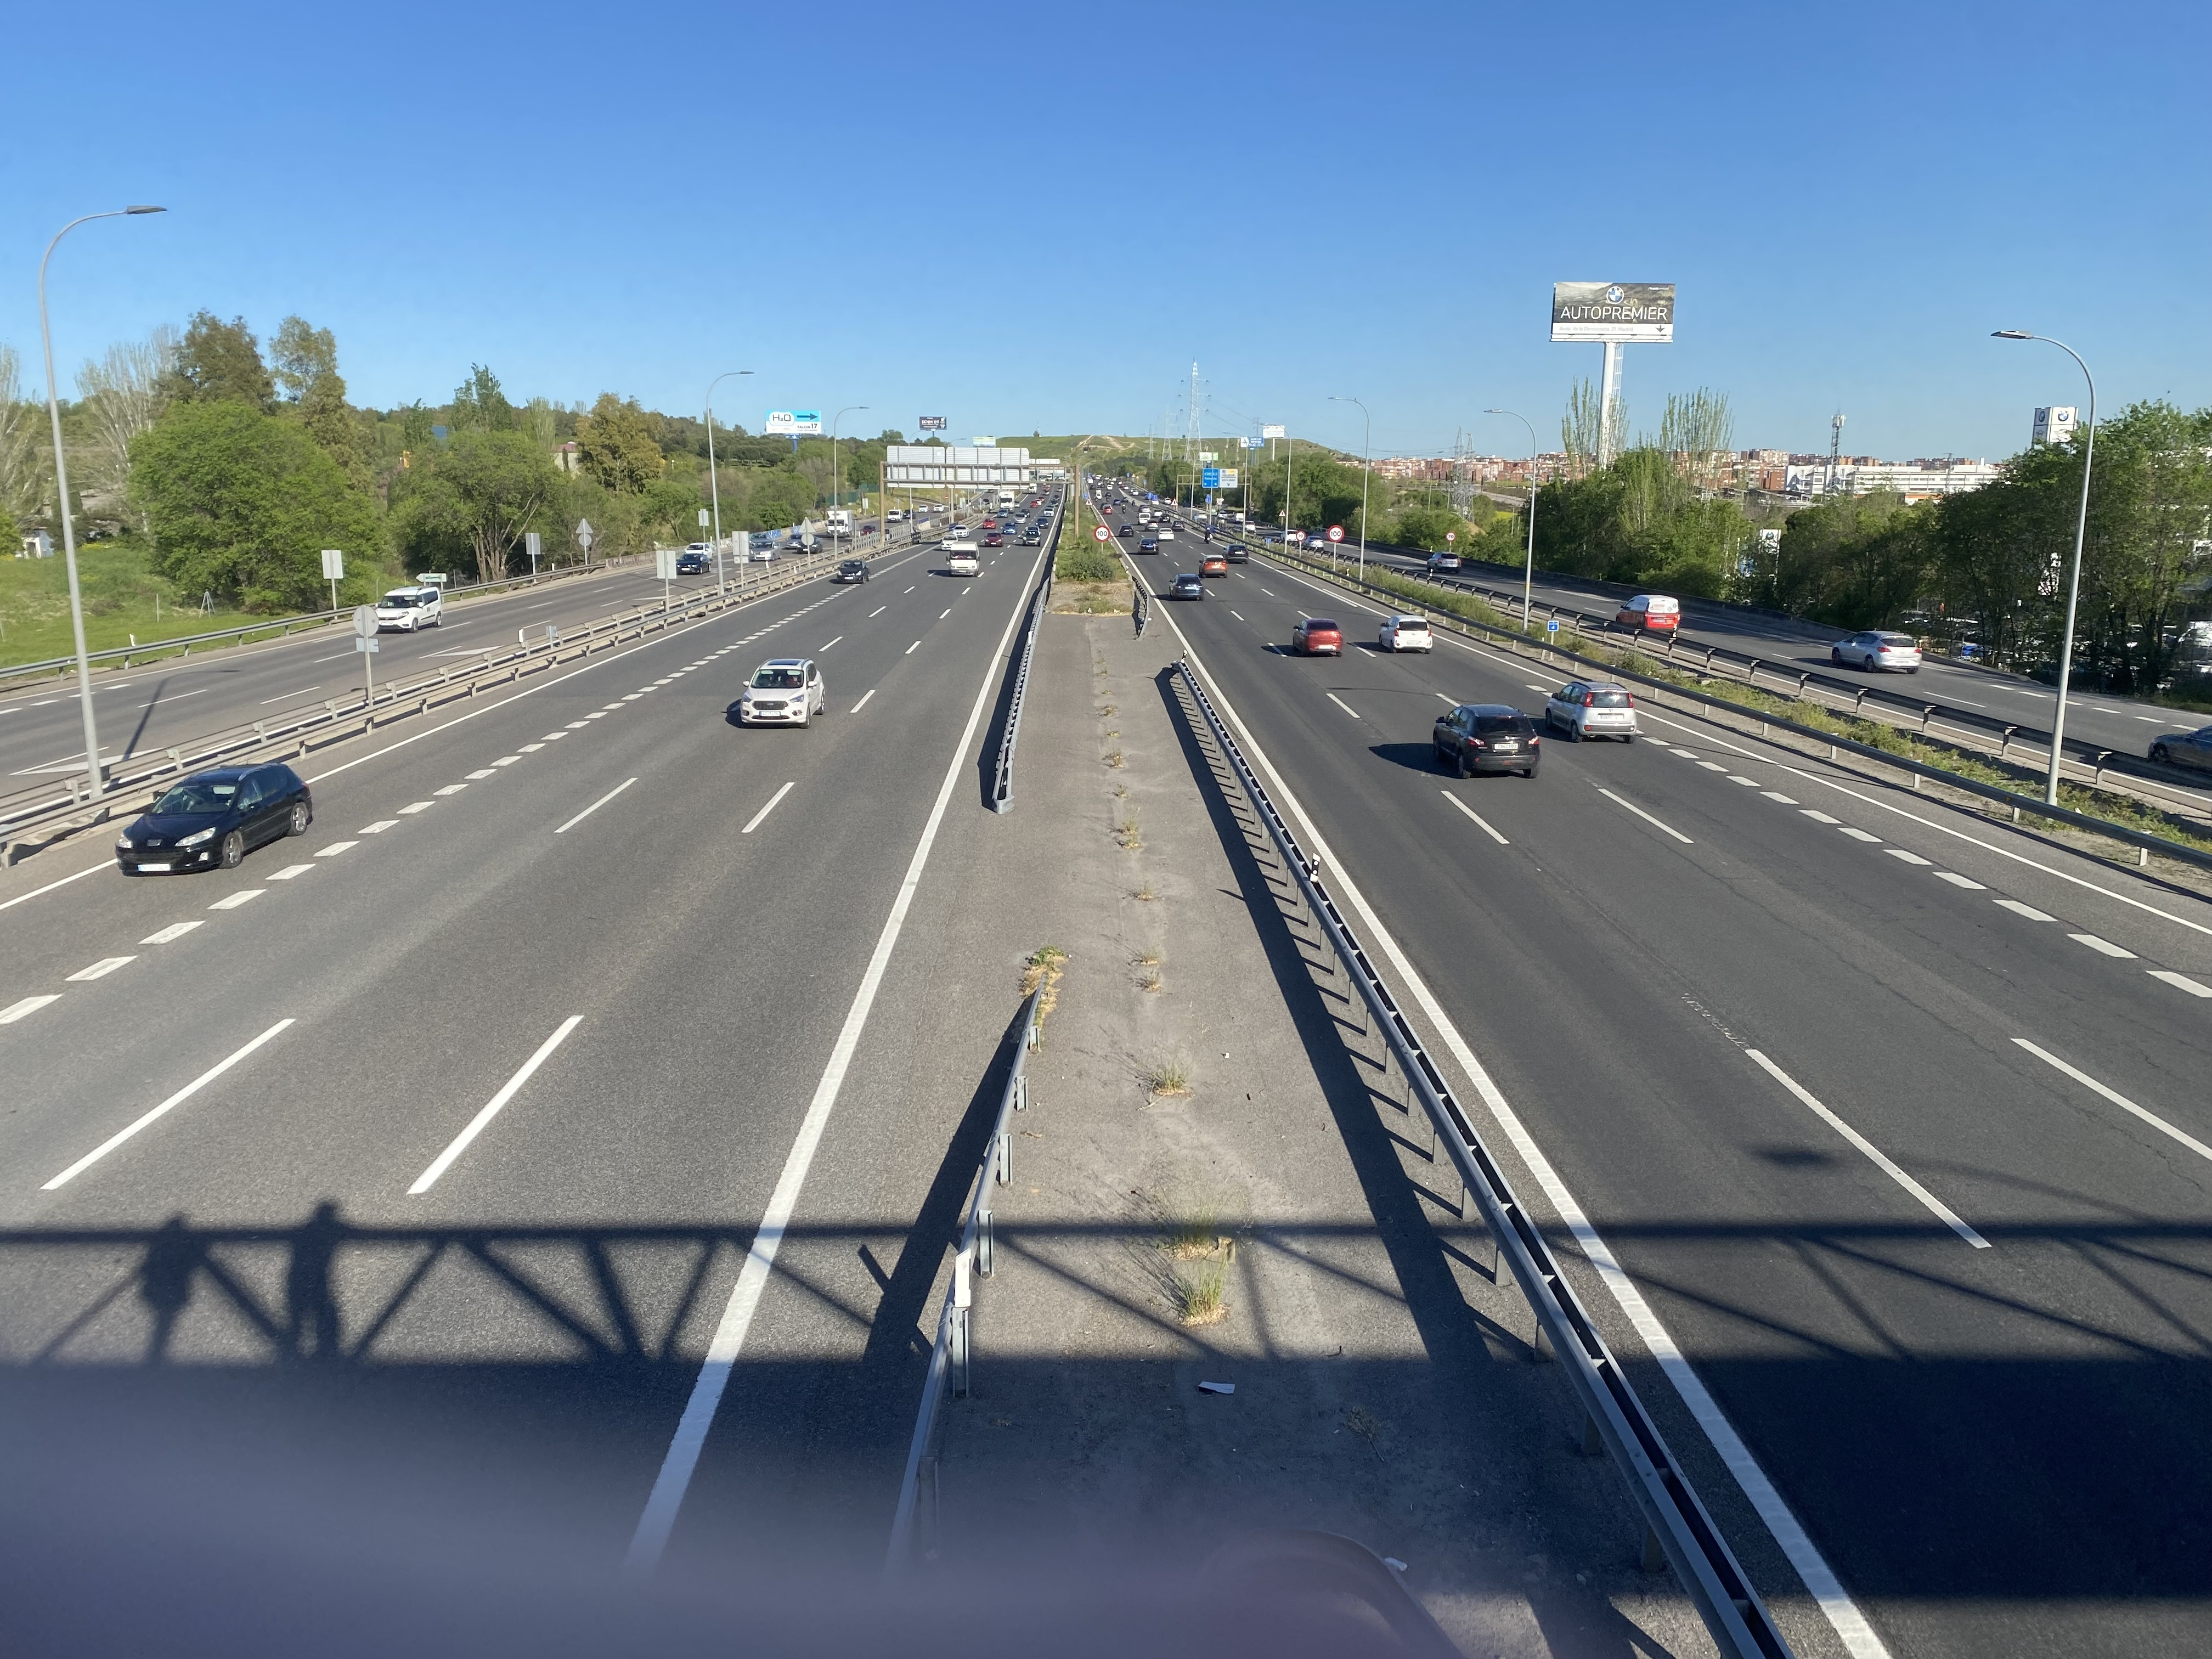cars: (117, 763, 312, 875), (1433, 704, 1540, 777), (1545, 680, 1639, 742), (740, 659, 824, 725), (1831, 629, 1921, 673), (2148, 725, 2212, 774), (376, 586, 442, 629), (1613, 594, 1679, 636), (1291, 617, 1343, 655), (1379, 615, 1432, 652), (948, 545, 981, 577), (676, 545, 711, 575), (1169, 573, 1204, 599), (834, 559, 869, 584), (1426, 551, 1460, 573), (1952, 641, 1986, 662), (1200, 554, 1228, 577), (1576, 613, 1609, 629), (1224, 542, 1249, 563), (791, 535, 817, 554), (1137, 533, 1160, 554), (751, 545, 775, 563), (1305, 533, 1325, 549), (1094, 525, 1111, 542)
